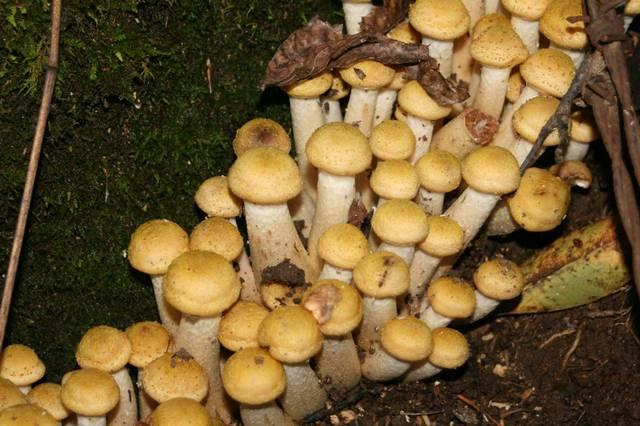Edible Mushroom: (347, 0, 524, 395), (234, 70, 353, 399), (1, 320, 321, 426), (524, 0, 640, 238), (226, 145, 312, 298), (122, 216, 240, 319), (194, 166, 240, 216)
